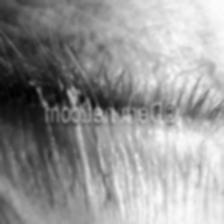Non-Cancerous Skin Condition: (54, 0, 224, 127), (0, 132, 222, 223), (0, 0, 44, 132)
